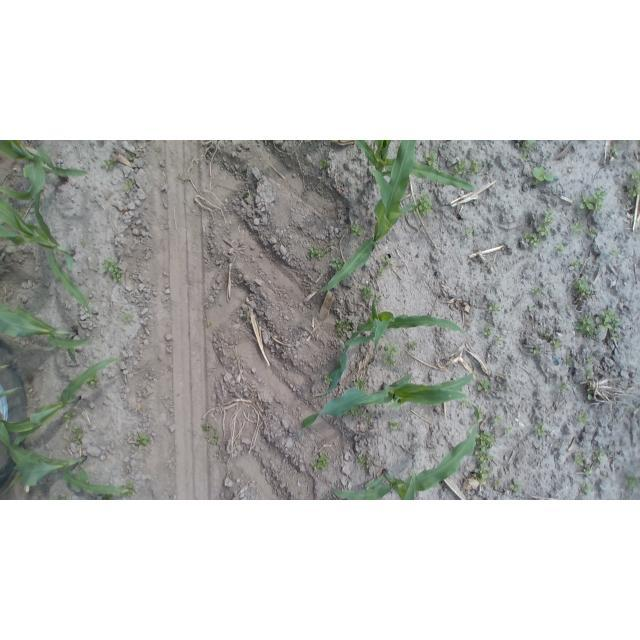Maize: (314, 300, 470, 399), (319, 140, 419, 294), (327, 405, 481, 500), (0, 170, 94, 315), (296, 367, 480, 438), (1, 356, 125, 452), (1, 426, 132, 495), (362, 142, 482, 202), (0, 141, 86, 202), (0, 302, 90, 354)
Weeds: (476, 431, 497, 472), (596, 310, 621, 341), (578, 189, 606, 213), (535, 210, 554, 241), (103, 257, 124, 283), (574, 315, 597, 338), (472, 458, 492, 482), (532, 166, 555, 185), (573, 276, 592, 299), (383, 342, 399, 367), (417, 192, 434, 215), (575, 454, 593, 475), (626, 169, 638, 199), (203, 424, 220, 445), (311, 453, 329, 472), (522, 232, 542, 248), (336, 317, 352, 337), (454, 158, 470, 176), (120, 482, 136, 499), (574, 454, 588, 473), (308, 245, 324, 261), (356, 453, 372, 469), (133, 432, 151, 446), (72, 424, 84, 445), (468, 158, 482, 176), (424, 151, 438, 168), (330, 257, 344, 272), (625, 474, 638, 490), (362, 285, 375, 301), (520, 141, 536, 154), (521, 145, 535, 159), (349, 223, 363, 237), (477, 379, 490, 394), (576, 411, 589, 425), (534, 422, 547, 436), (593, 449, 605, 463), (571, 220, 583, 234), (406, 339, 419, 351), (481, 324, 493, 337), (487, 302, 500, 314), (63, 412, 76, 424), (511, 479, 522, 493), (90, 374, 101, 388), (123, 180, 135, 192), (318, 158, 330, 170), (382, 255, 393, 268), (532, 284, 543, 297), (463, 227, 474, 240), (348, 407, 362, 417), (104, 158, 115, 170), (356, 378, 367, 390), (550, 339, 563, 349), (586, 387, 596, 400), (390, 421, 401, 432), (580, 484, 592, 494), (583, 368, 593, 380), (587, 226, 597, 238), (532, 345, 542, 356), (555, 245, 566, 255), (378, 266, 387, 278), (324, 372, 332, 385), (564, 354, 572, 367), (364, 412, 372, 425), (491, 413, 501, 423), (122, 314, 132, 323), (460, 400, 470, 409), (610, 246, 619, 256), (610, 145, 618, 156), (494, 478, 503, 487), (572, 260, 581, 269), (559, 384, 569, 392), (505, 426, 513, 435), (205, 319, 214, 327), (204, 300, 213, 308), (494, 336, 502, 344), (18, 209, 26, 216), (587, 357, 594, 364), (529, 305, 536, 312), (543, 332, 551, 338), (81, 240, 88, 246), (507, 387, 513, 393)
